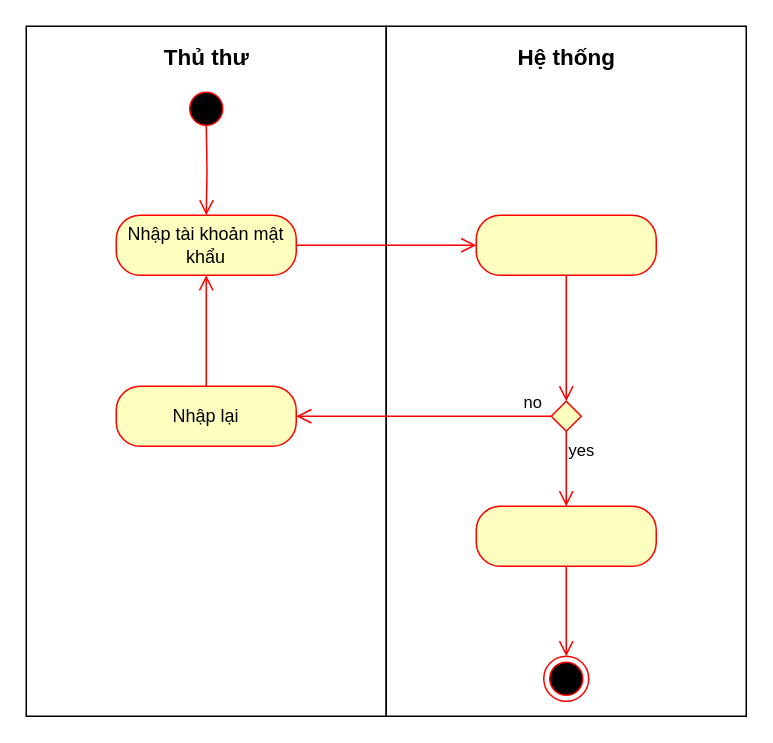
Image size: 773x743. Some labels were removed from this diagram. The shapes that lost their labels are listed below. From the top down, each one's centre as x and y in pixels, then its label:
At point (565, 244): "Kiểm tra thông tin".
At point (565, 535): "Đăng nhập thành công".
